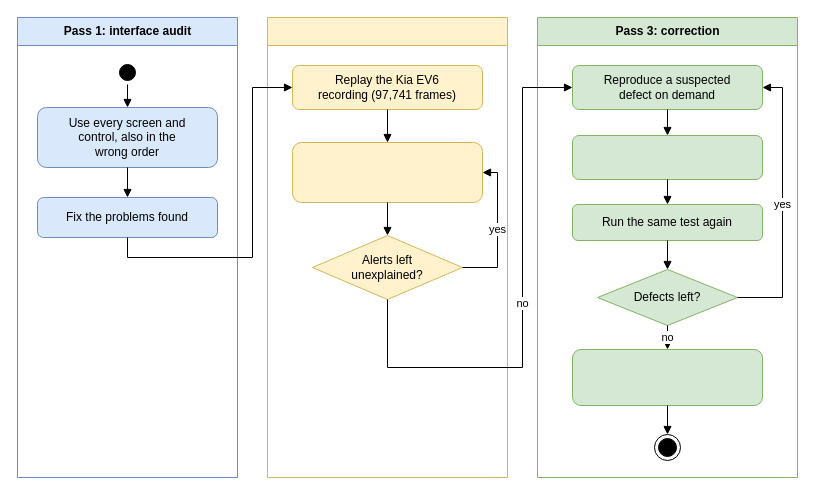
The diagram is 815 pixels wide and 495 high, and some of its shapes have lost their labels. The shapes that lost their labels are listed below. From the top down, each one's box as (x1, y1, x2, y2) in pixels, then its label:
(292, 142, 482, 202): Take an unexplained alert and find the layer that dominates its score
(572, 134, 762, 180): Find its cause in the code and fix it
(266, 16, 508, 478): Pass 2: root causes
(572, 348, 762, 406): Full run: import, replay, detection, explanation, export
